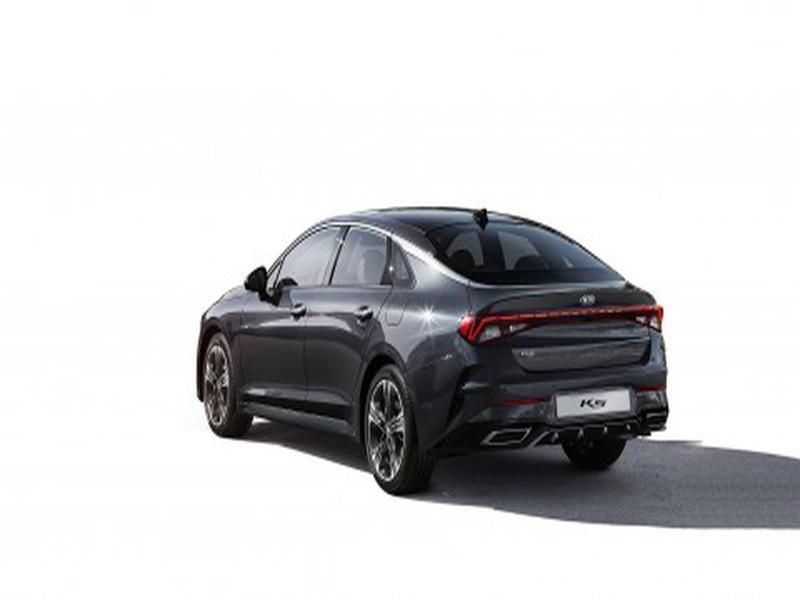car: (192, 203, 673, 483)
